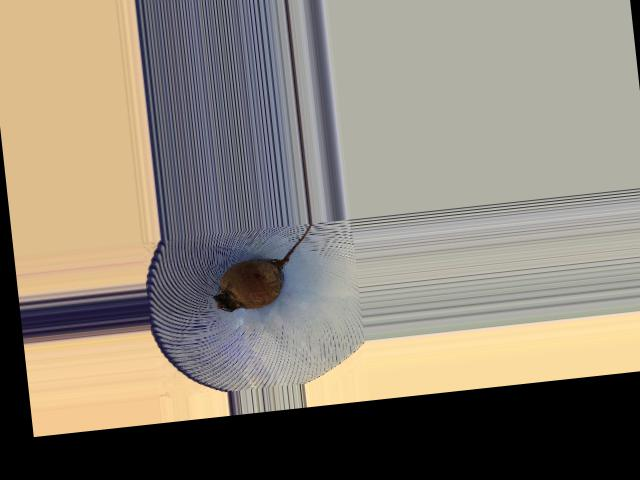beet: (206, 222, 319, 312)
